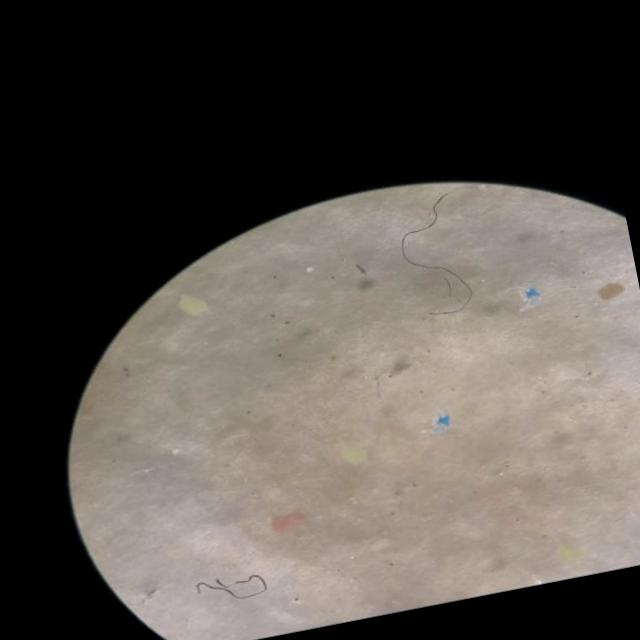fiber: (401, 193, 472, 314), (195, 574, 267, 599)
film: (422, 413, 443, 433), (520, 291, 540, 310)
fragment: (269, 510, 304, 533), (179, 296, 207, 316), (597, 282, 624, 301), (340, 445, 366, 464), (556, 545, 582, 564)
pellet: (171, 449, 179, 454), (306, 267, 312, 272)
